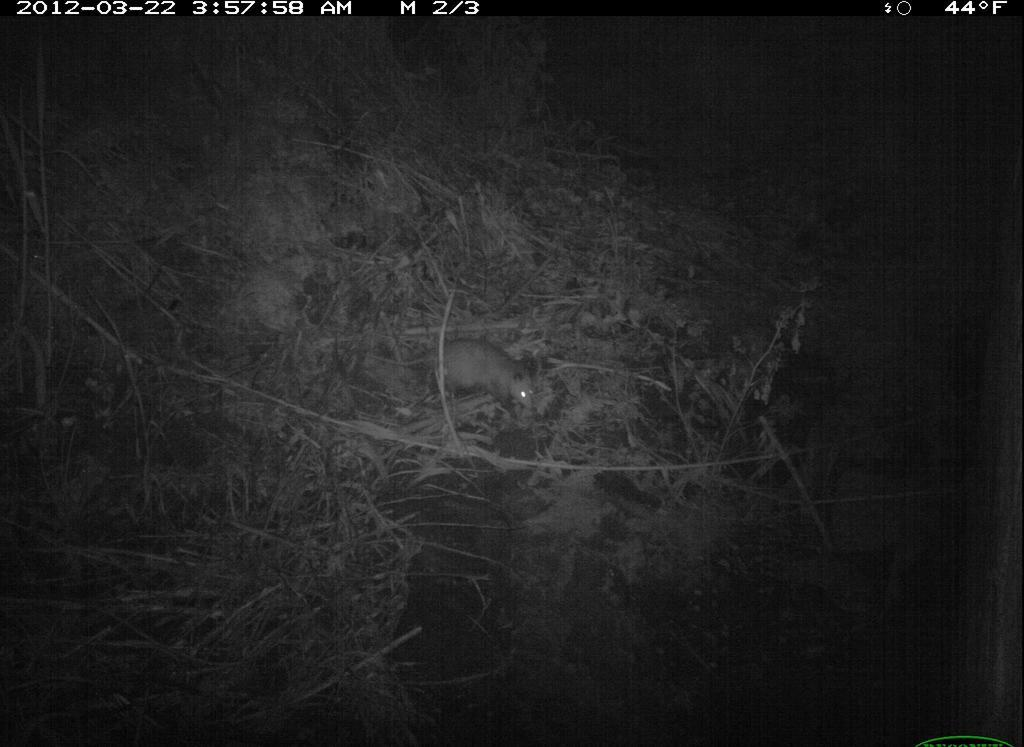opossum: (370, 331, 542, 419)
